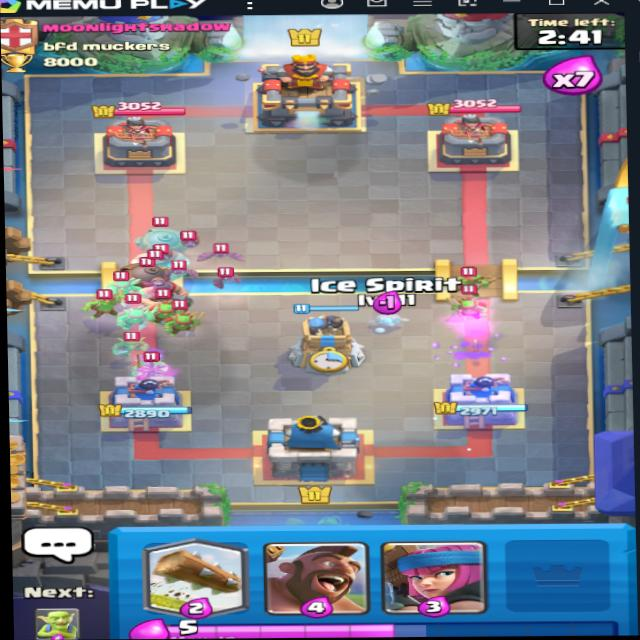bats: (208, 264, 247, 291), (160, 260, 209, 278), (173, 228, 210, 251), (200, 241, 239, 262)
mighty-miner: (114, 253, 189, 317)
spear-goblin: (156, 305, 202, 331), (446, 266, 488, 294), (448, 294, 489, 322), (87, 290, 125, 311)
